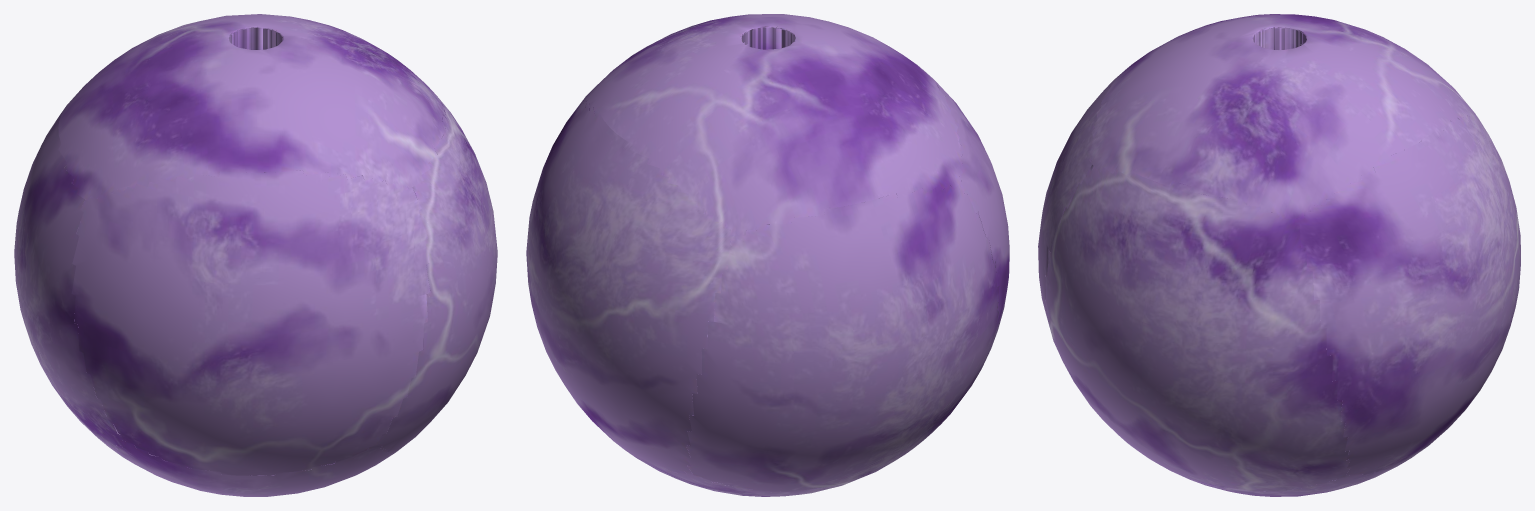
Rendered from stone-amethyst.glb.
3 views of the same model, side by side, from view 1: azimuth 30°, elevation 25°; view 2: azimuth 150°, elevation 25°; view 3: azimuth 270°, elevation 25° (orthographic).
Parts seen in each view (by area): view 1: Bead_hi; view 2: Bead_hi; view 3: Bead_hi.
Part boxes in pixels (left/top/right/bottom): Bead_hi: left=14, top=14, right=497, bottom=496; Bead_hi: left=526, top=14, right=1009, bottom=496; Bead_hi: left=1038, top=14, right=1520, bottom=496.
Bounding box in the file's own units: 1 × 0.9939 × 0.9996.
1 material, 1 textured.
